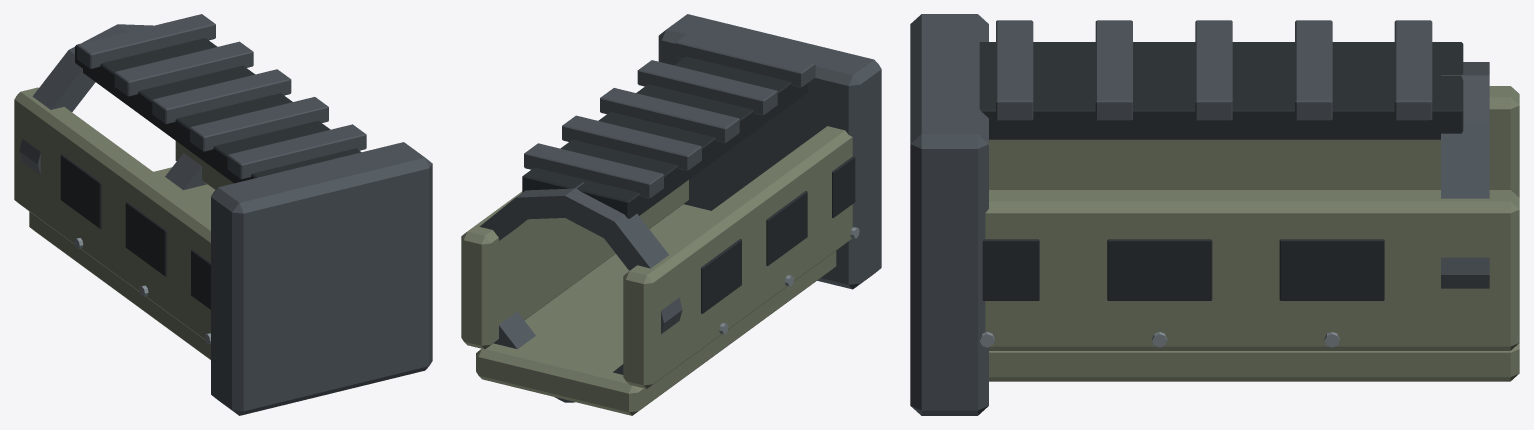
File: weapon_reed9_handguard.glb
3 renders of one model, left to right at view 1: azimuth 30°, elevation 25°; view 2: azimuth 150°, elevation 25°; view 3: azimuth 270°, elevation 25°, orthographic. The views are drawn at different scales.
Visible parts, largest first — view 1: Geometry_weapon_reed9_handguard; view 2: Geometry_weapon_reed9_handguard; view 3: Geometry_weapon_reed9_handguard.
Boxes of the visible parts, left/top/right/bottom form: Geometry_weapon_reed9_handguard: left=14, top=14, right=432, bottom=415; Geometry_weapon_reed9_handguard: left=461, top=14, right=881, bottom=415; Geometry_weapon_reed9_handguard: left=910, top=14, right=1519, bottom=415.
Size of the model in its own units: 0.0817 by 0.087 by 0.1625.
